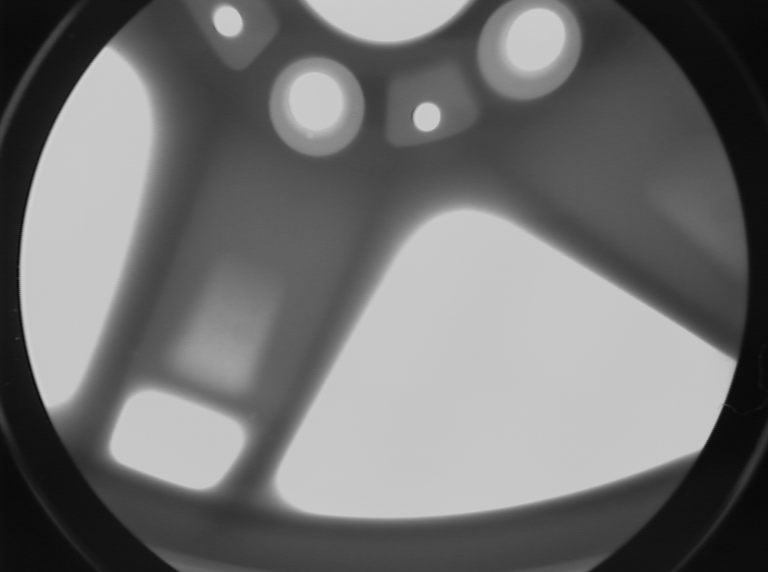defect: (127, 346, 142, 363)
